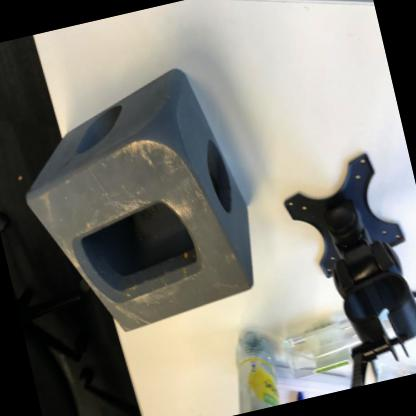CornerCasting: (0, 53, 277, 354)
